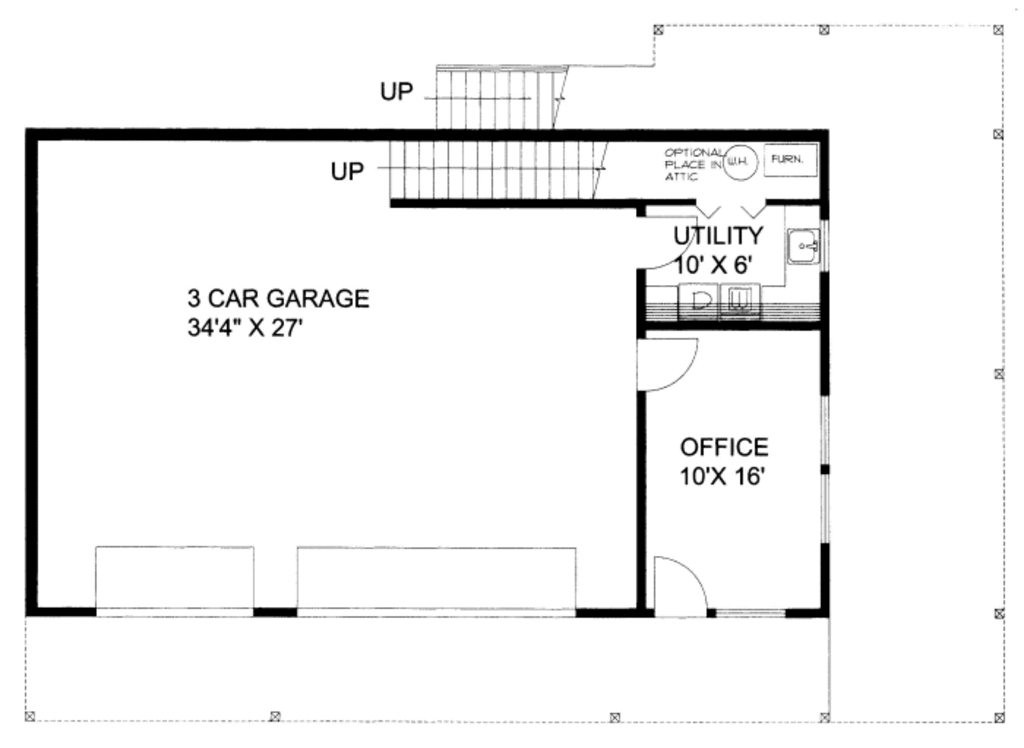door: (638, 336, 705, 403), (639, 213, 705, 271), (652, 552, 712, 615)
sink: (782, 220, 819, 275)
stairs: (372, 133, 611, 219), (424, 56, 575, 131)
window: (715, 604, 781, 619), (820, 396, 831, 464), (821, 473, 831, 538)
